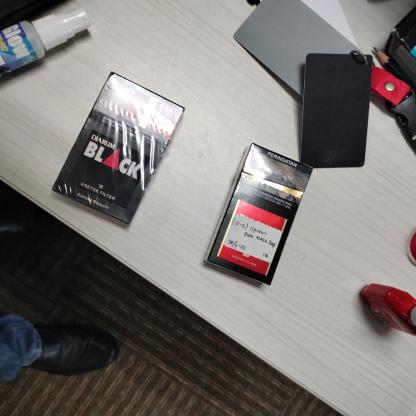bungkus rokok: (43, 67, 188, 234), (198, 136, 317, 291)
